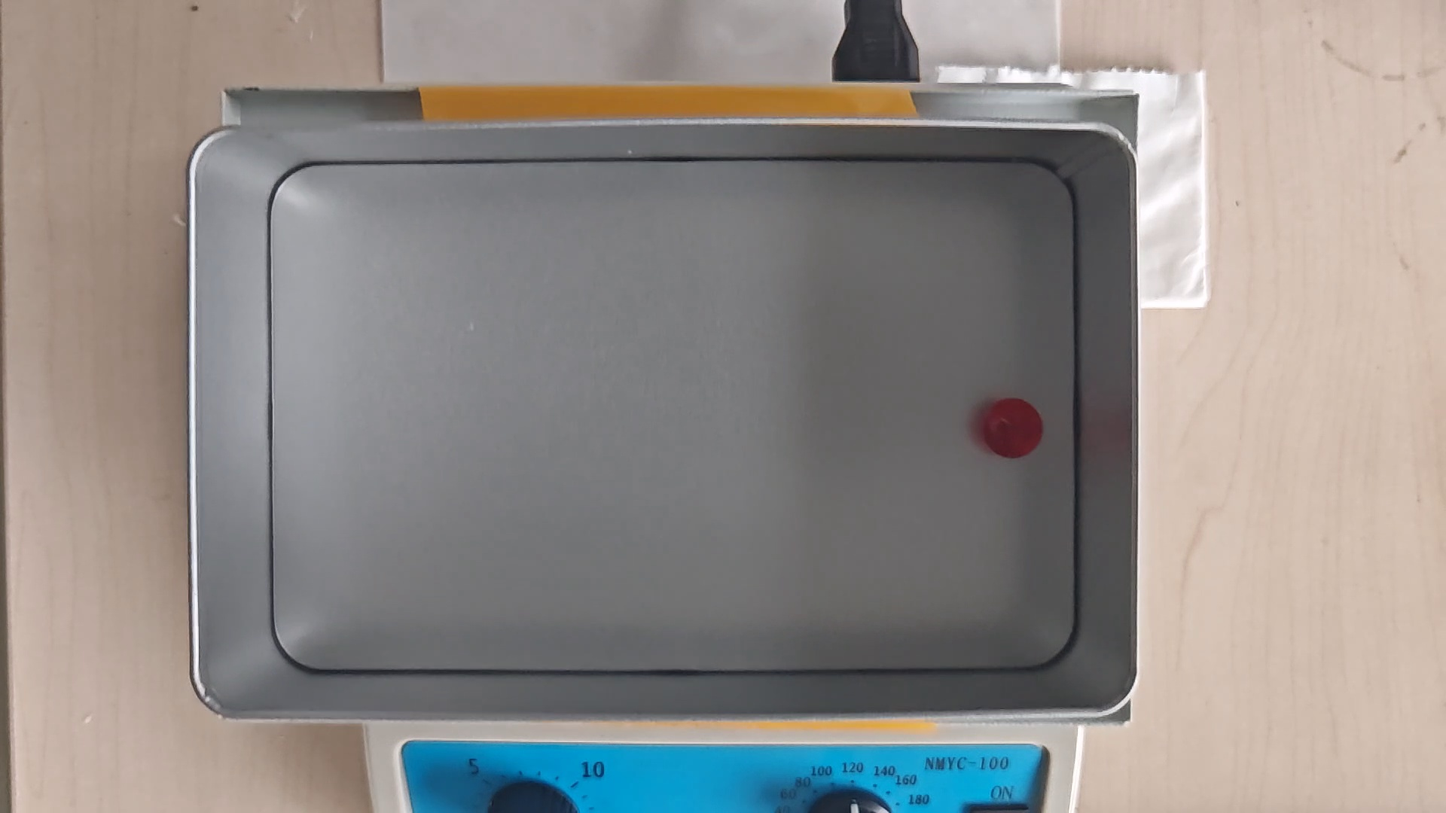ball: (984, 399, 1045, 458)
container: (268, 161, 1076, 672)
